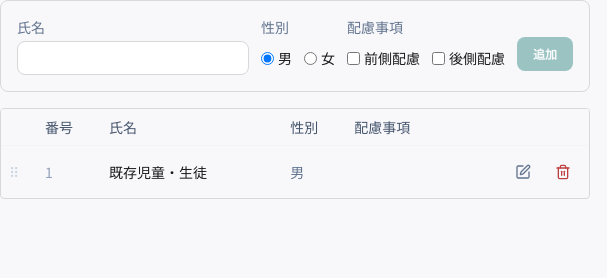
Test: StudentTable › 上限人数に達したときエラーメッセージが表示される
The image size is (607, 278).
Type "追加児童・生徒" into the field labelled "氏名" at [133, 58], box left=17, top=41, right=249, bottom=75
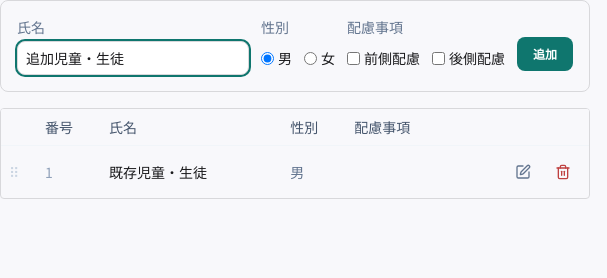
Click the button "追加" at [545, 54], box left=517, top=37, right=573, bottom=71
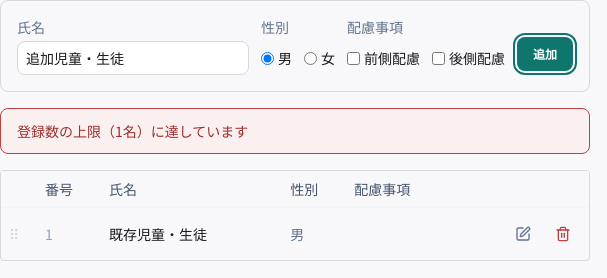
Now the text "登録数の上限（1名）に達しています" is shown, box left=0, top=108, right=590, bottom=154
